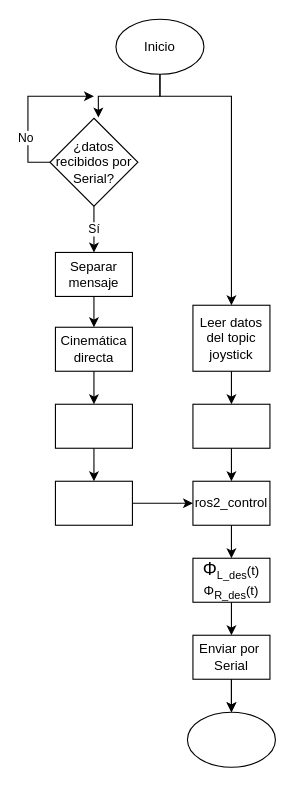
Some shapes in this 295 by 787 pixel diagram are drawn without their labels. Here are the shapes that lost their labels. From the top down, the centre of each, then its label:
point (93, 425): V(t) w(t)
point (231, 425): V des (t) w des (t)
point (93, 502): Publicar topic
point (230, 739): Fin
